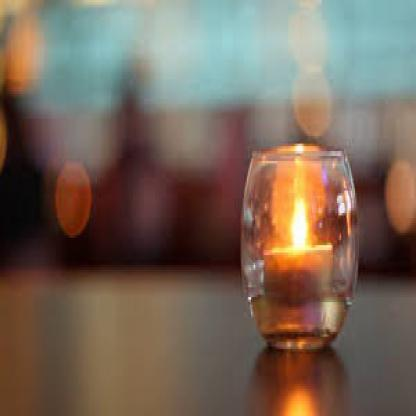fire: (284, 188, 311, 252)
